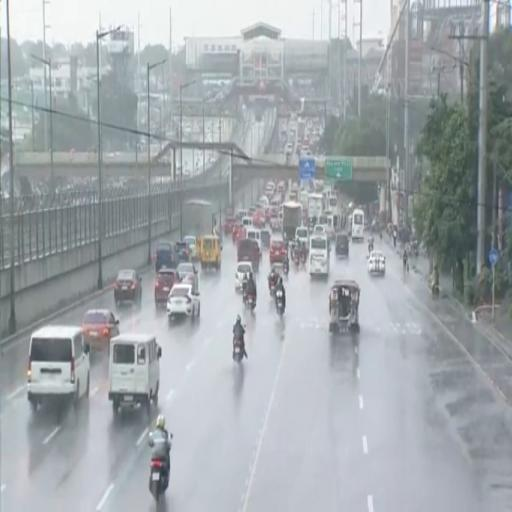bus: (352, 209, 364, 241)
car: (27, 326, 89, 411), (83, 310, 119, 349), (167, 283, 200, 321), (114, 269, 142, 306), (154, 268, 181, 305), (156, 243, 177, 271), (176, 262, 198, 288), (235, 262, 252, 291), (367, 250, 386, 275), (270, 240, 286, 264), (183, 235, 197, 261), (176, 242, 190, 263), (313, 224, 326, 234)
motorcycle: (149, 459, 169, 503), (233, 338, 244, 362), (276, 290, 284, 315), (246, 294, 255, 311), (431, 284, 439, 299), (412, 240, 418, 257), (300, 252, 307, 266), (283, 261, 289, 276), (243, 285, 247, 306), (270, 283, 275, 298), (294, 251, 299, 265)
truck: (283, 201, 302, 239), (308, 194, 323, 219)
